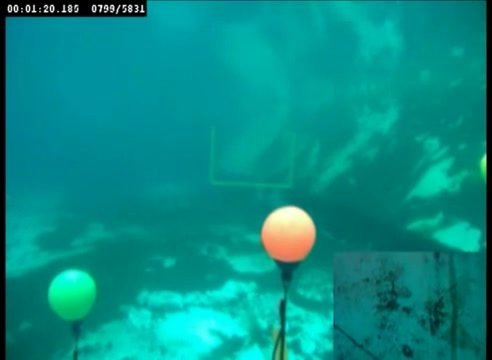buoy_red: (256, 200, 315, 275)
